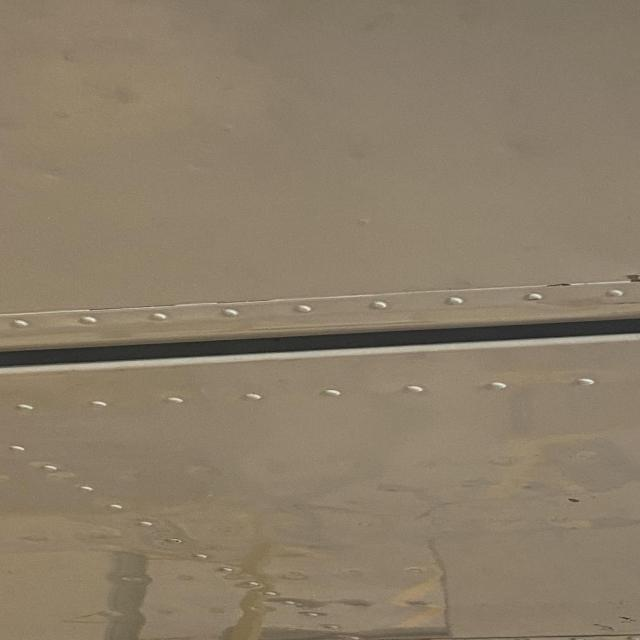Paint-off: (630, 275, 640, 281)
